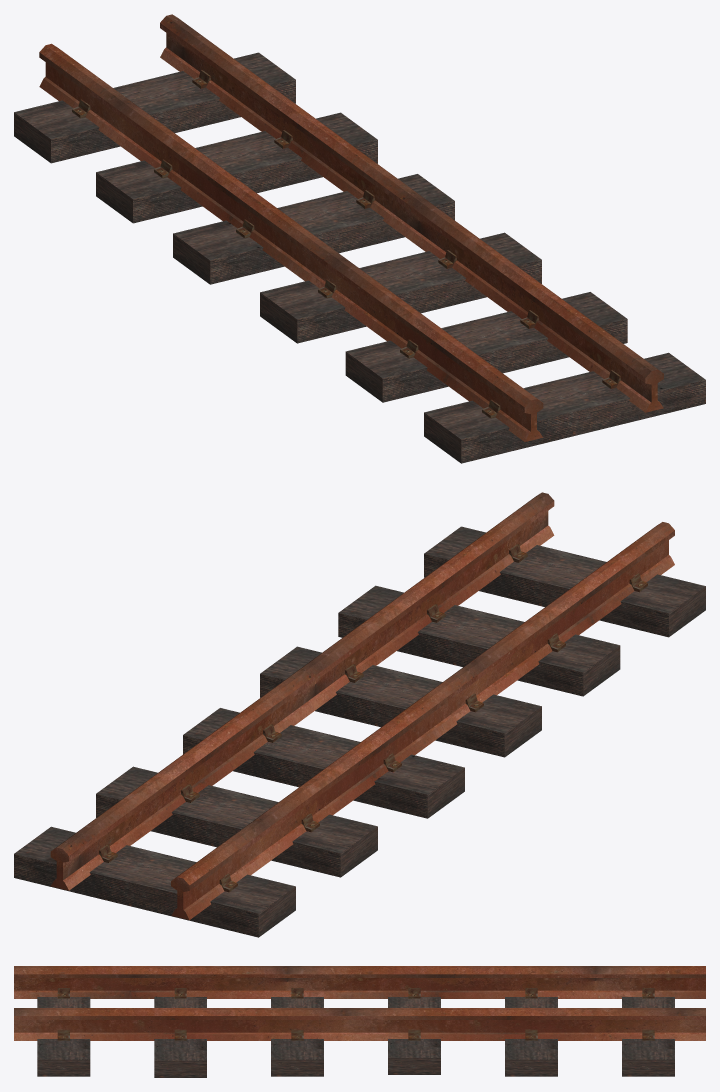
Rendered from rail_track_600mm_tracks.obj.
The picture shows the model from 3 angles, top to bottom: view 1: azimuth 30°, elevation 25°; view 2: azimuth 150°, elevation 25°; view 3: azimuth 270°, elevation 25°; orthographic projection. The views are drawn at different scales.
Visible parts, largest first — view 1: RailTrackLogs, RailTrackTrack; view 2: RailTrackLogs, RailTrackTrack; view 3: RailTrackTrack, RailTrackLogs.
Boxes of the visible parts, x1,y1,x2,y2 form: RailTrackLogs: (14, 52, 705, 463); RailTrackTrack: (39, 14, 663, 441); RailTrackLogs: (14, 526, 705, 937); RailTrackTrack: (50, 492, 674, 919); RailTrackTrack: (14, 966, 705, 1040); RailTrackLogs: (37, 997, 674, 1077).
Size of the model in its own units: 1.08 by 0.2521 by 3.58.
